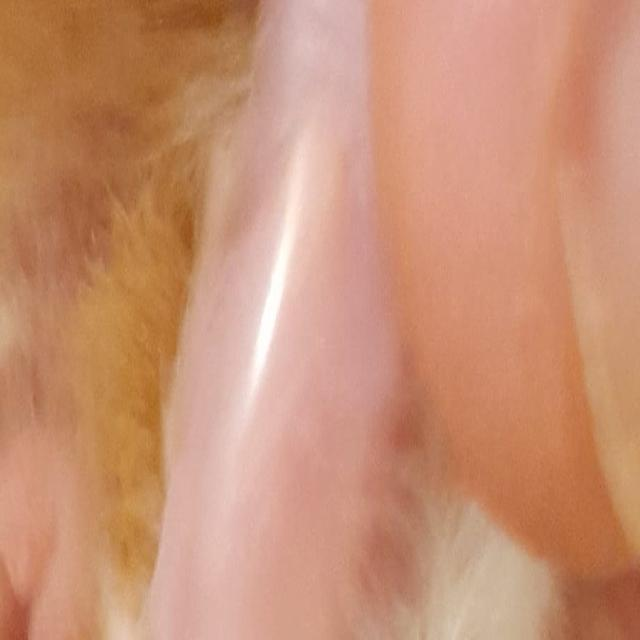fem: (0, 436, 78, 640)
